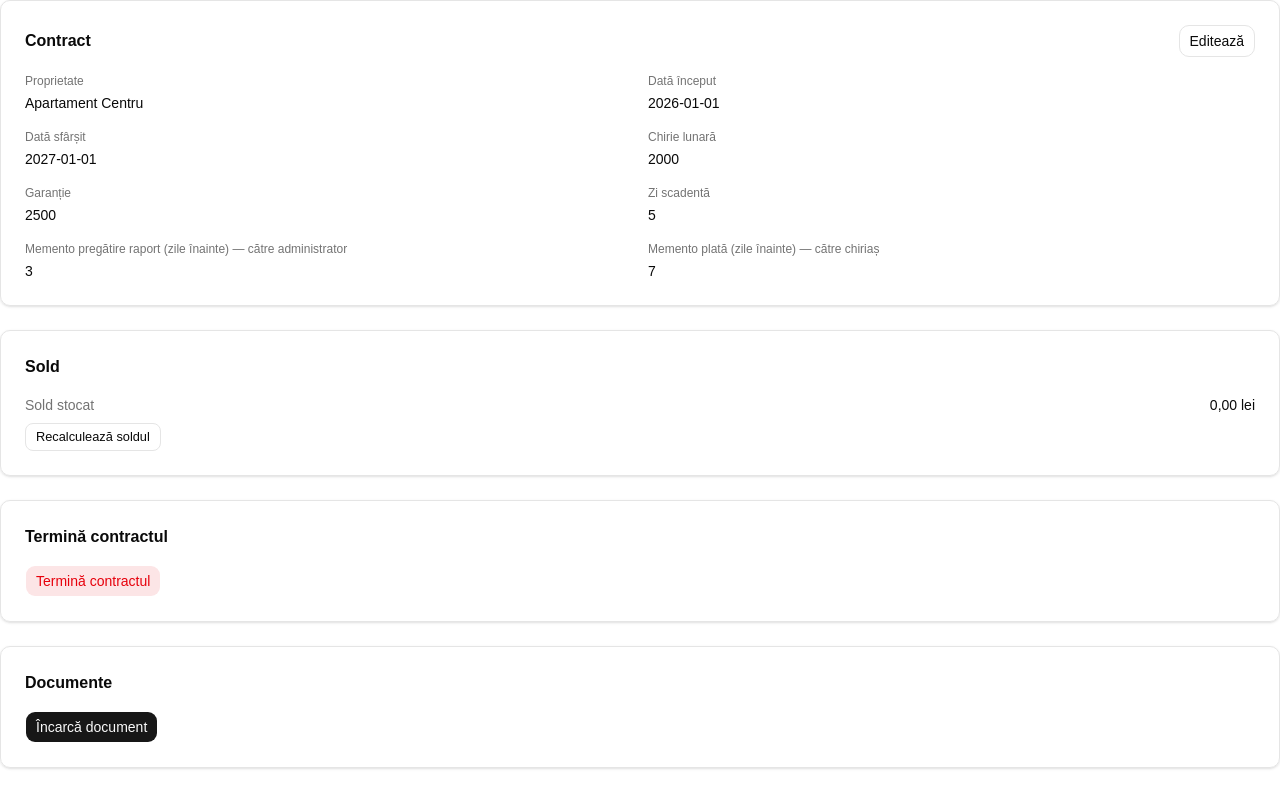
Test case: TenancyTab — End Contract (FR-CON-03/05) › disables the confirm button until the closing balance is acknowledged
Click the button "Termină contractul": x=93, y=581 x1=25 y1=565 x2=161 y2=597
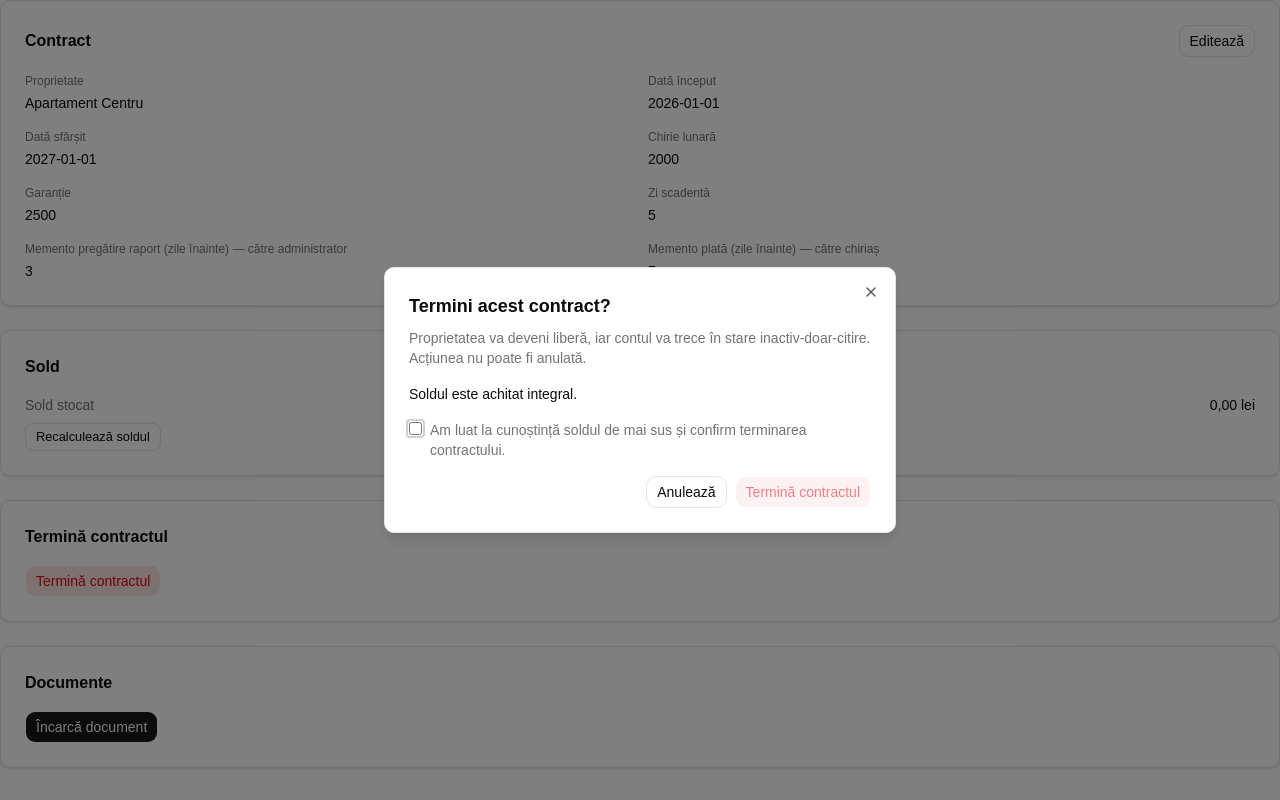
Check: the button "Termină contractul" is disabled, box x1=735 y1=476 x2=871 y2=508
Click the checkbox: x=416, y=428 x1=409 y1=422 x2=422 y2=435
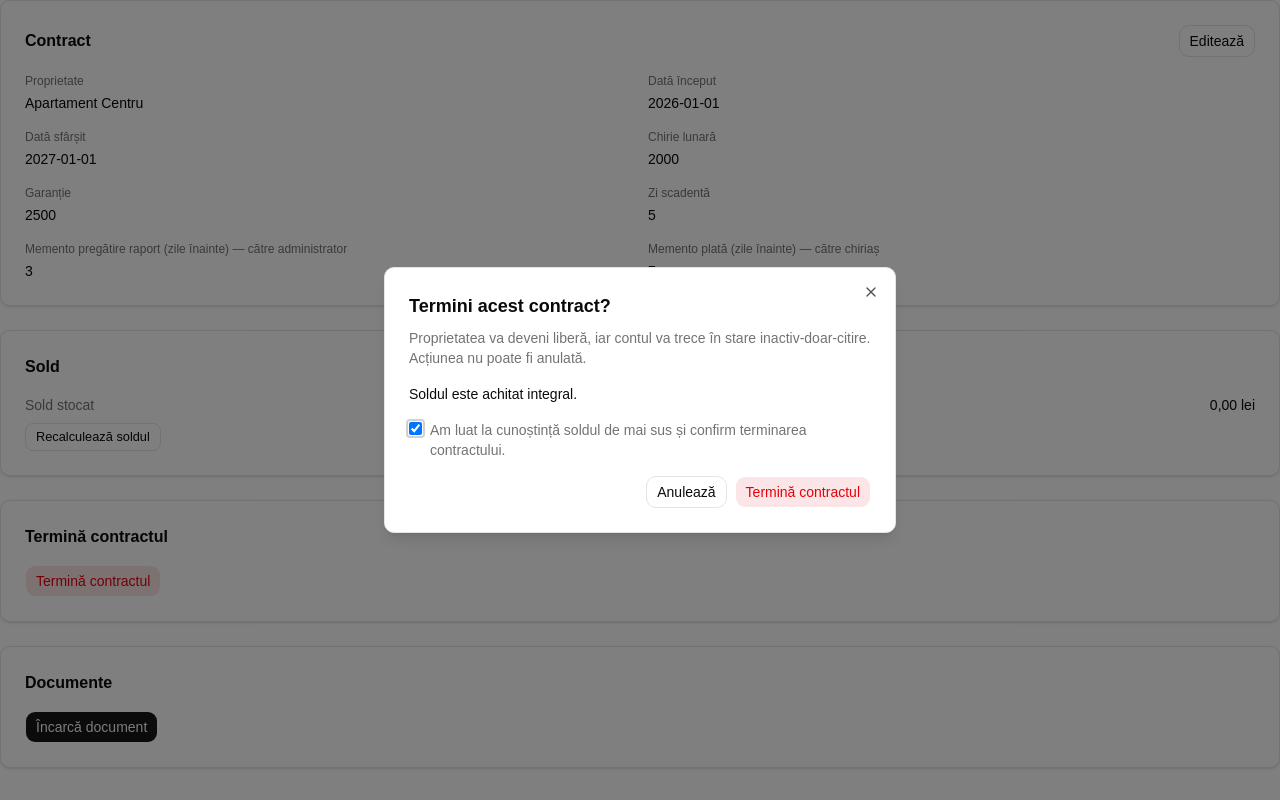
Check: the button "Termină contractul" is enabled, box x1=735 y1=476 x2=871 y2=508
